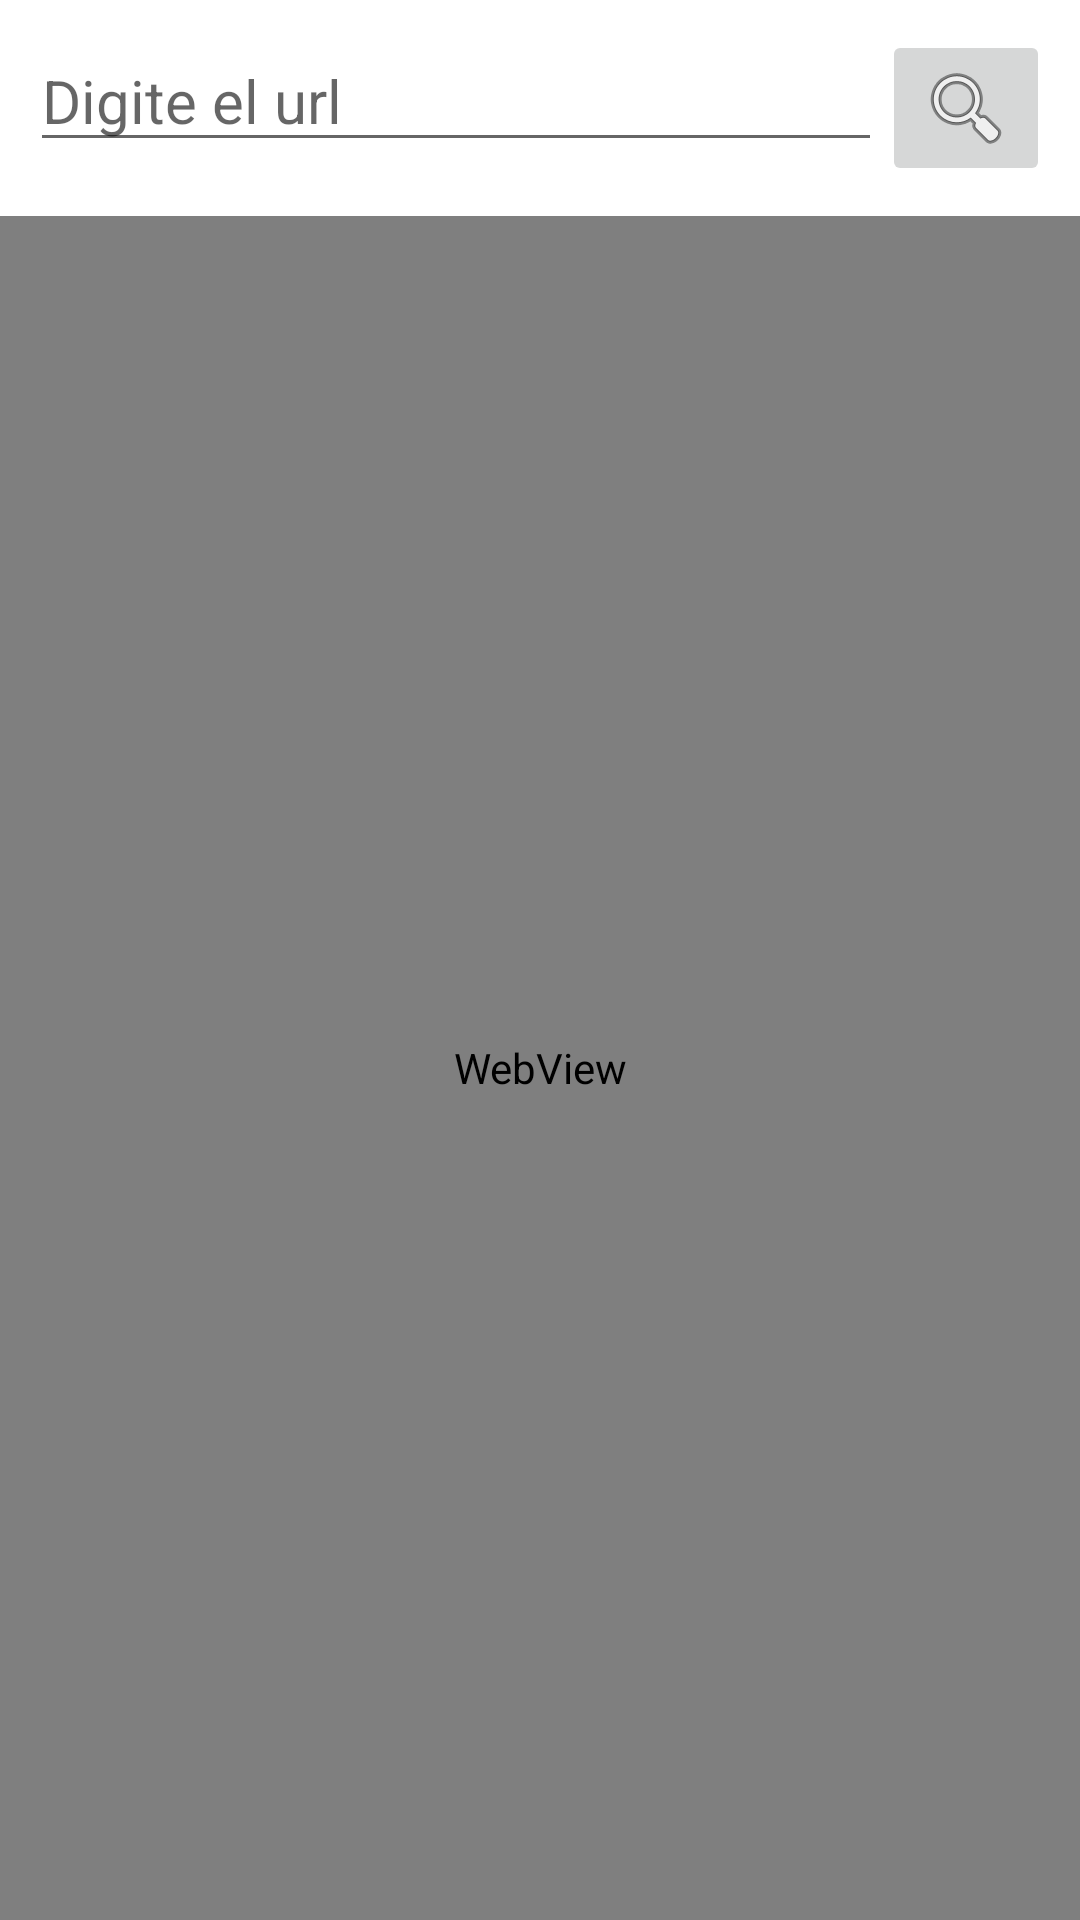

Named icons in this screenshot (1080 × 1920) and their bounding boxes, (x1, y1, x2, y2):
search: (894, 48, 1038, 168)
